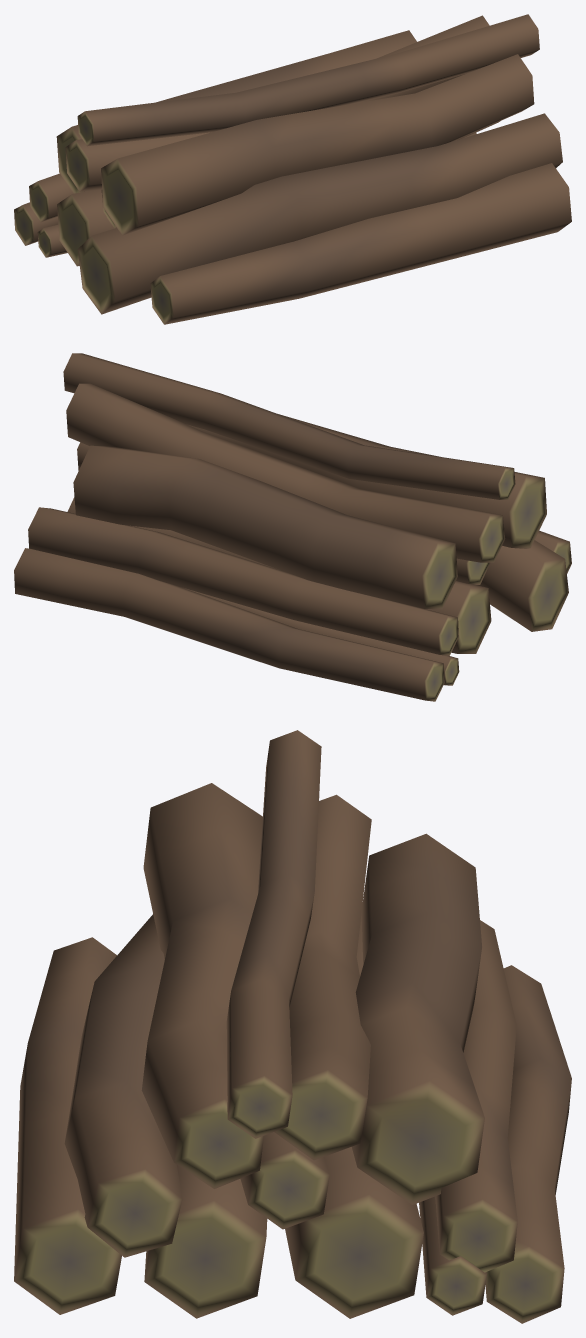
The model's file is branches.fbx.
The picture shows the model from 3 angles, top to bottom: view 1: azimuth 30°, elevation 25°; view 2: azimuth 150°, elevation 25°; view 3: azimuth 270°, elevation 25°; orthographic projection. The views are drawn at different scales.
Parts seen in each view (by area): view 1: Tube; view 2: Tube; view 3: Tube.
Part boxes in pixels (x1,y1,x2,y2): Tube: [14, 14, 571, 324]; Tube: [14, 353, 571, 701]; Tube: [14, 730, 571, 1323].
Bounding box in the file's own units: 5.22 × 2.03 × 3.45.
